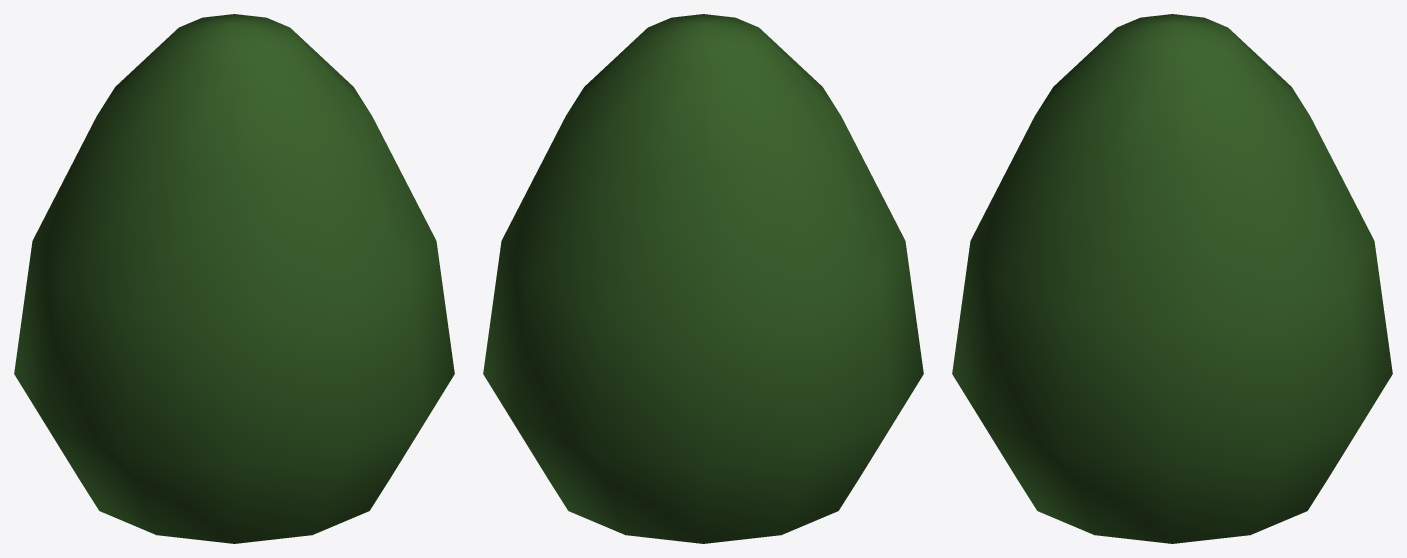
File: Avocado.fbx
The picture shows the model from 3 angles, left to right: view 1: azimuth 30°, elevation 25°; view 2: azimuth 150°, elevation 25°; view 3: azimuth 270°, elevation 25°; orthographic projection.
Visible parts, largest first — view 1: Avocado; view 2: Avocado; view 3: Avocado.
Boxes of the visible parts, x1,y1,x2,y2 form: Avocado: (14,14,454,543); Avocado: (483,14,923,543); Avocado: (952,14,1392,543).
Bounding box in the file's own units: 0.96 × 1.14 × 0.96.
Materials: 1 (1 with a texture image).
